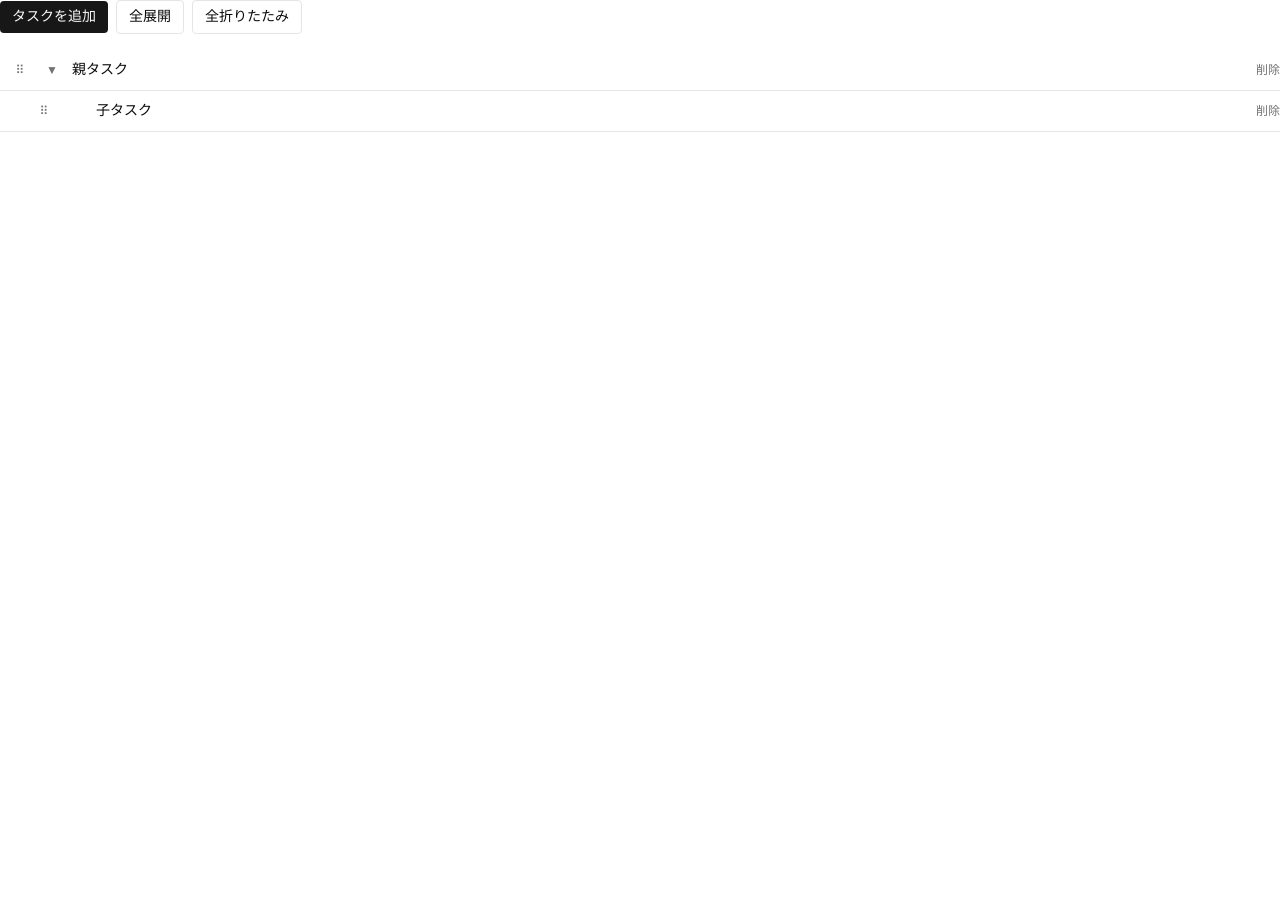
TaskTreeTable › タスク詳細パネル連携（Issue #16 AC1） › TaskTreeTable_タスク名をクリックしたとき_タスク詳細パネルが開く
The image size is (1280, 900).
Click the text "親タスク": (100, 70) left=72, top=62, right=128, bottom=77
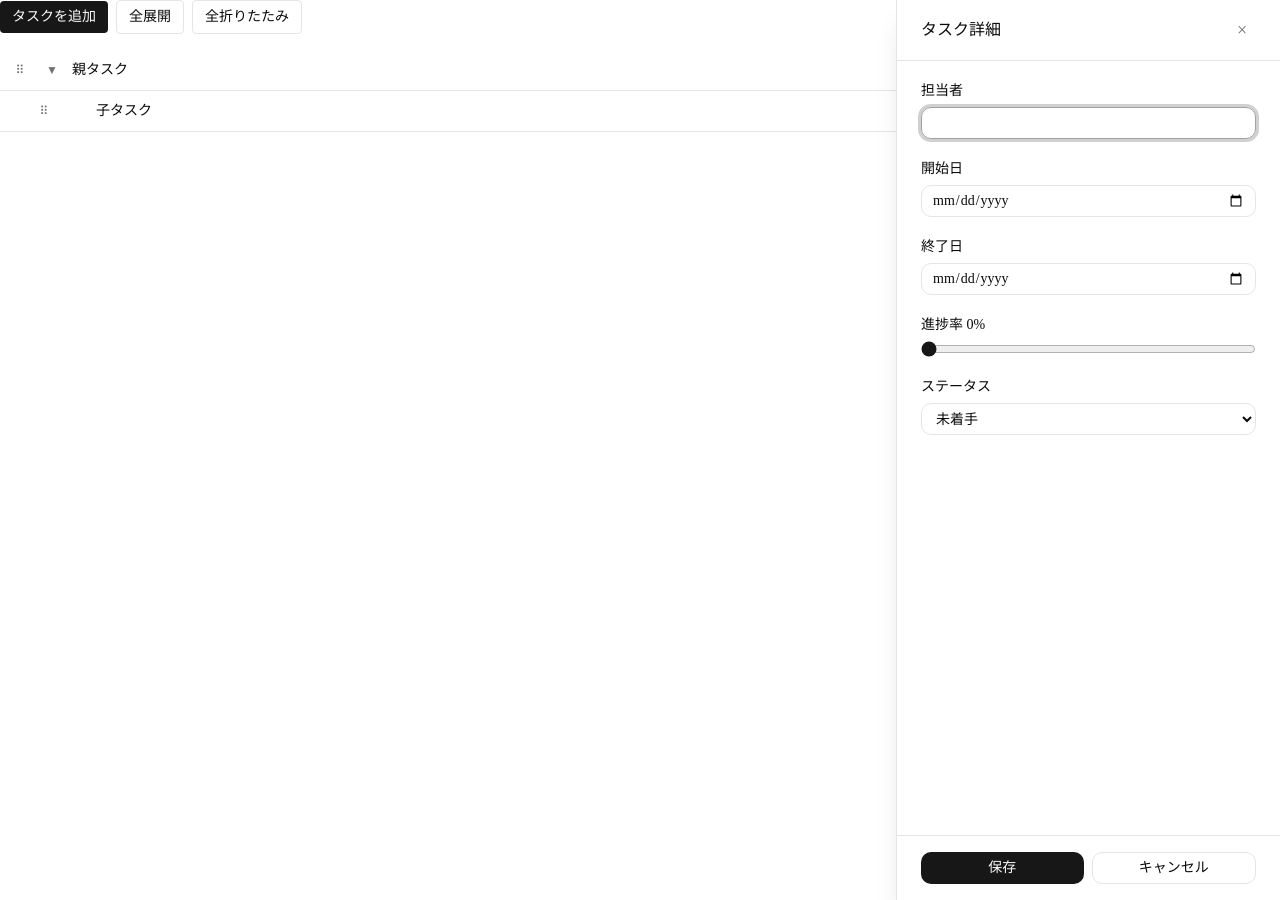
Check: the heading "タスク詳細" is shown, box left=921, top=18, right=1001, bottom=42
